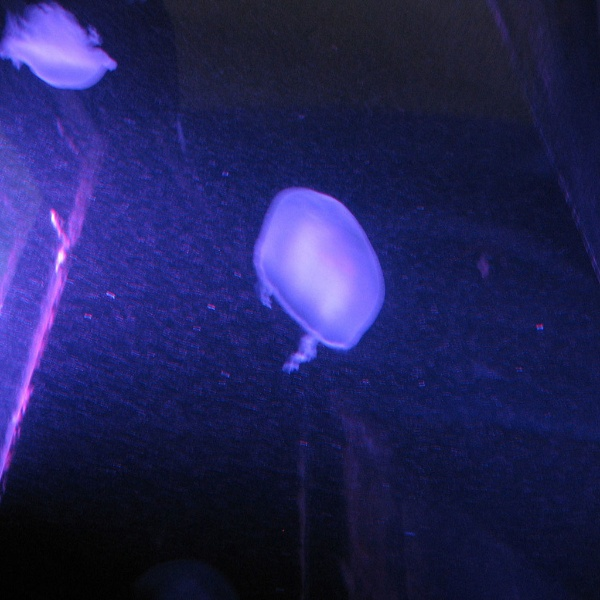Jellyfish: (248, 188, 386, 375), (0, 2, 115, 86)
